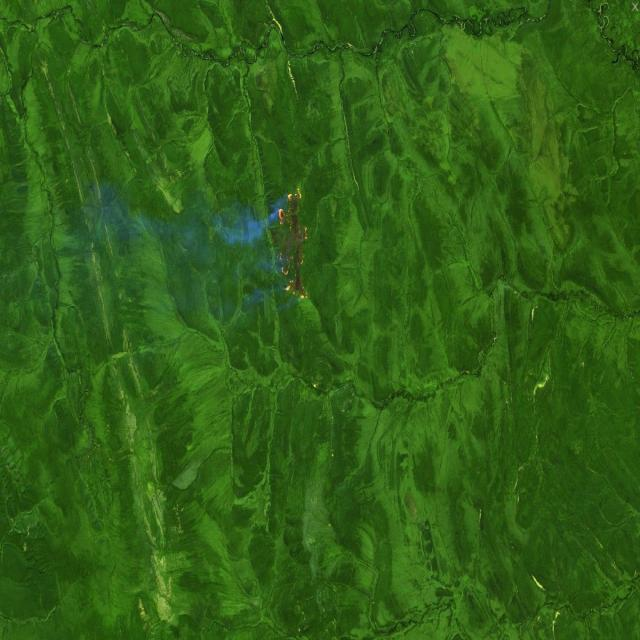fire: (278, 184, 316, 306)
